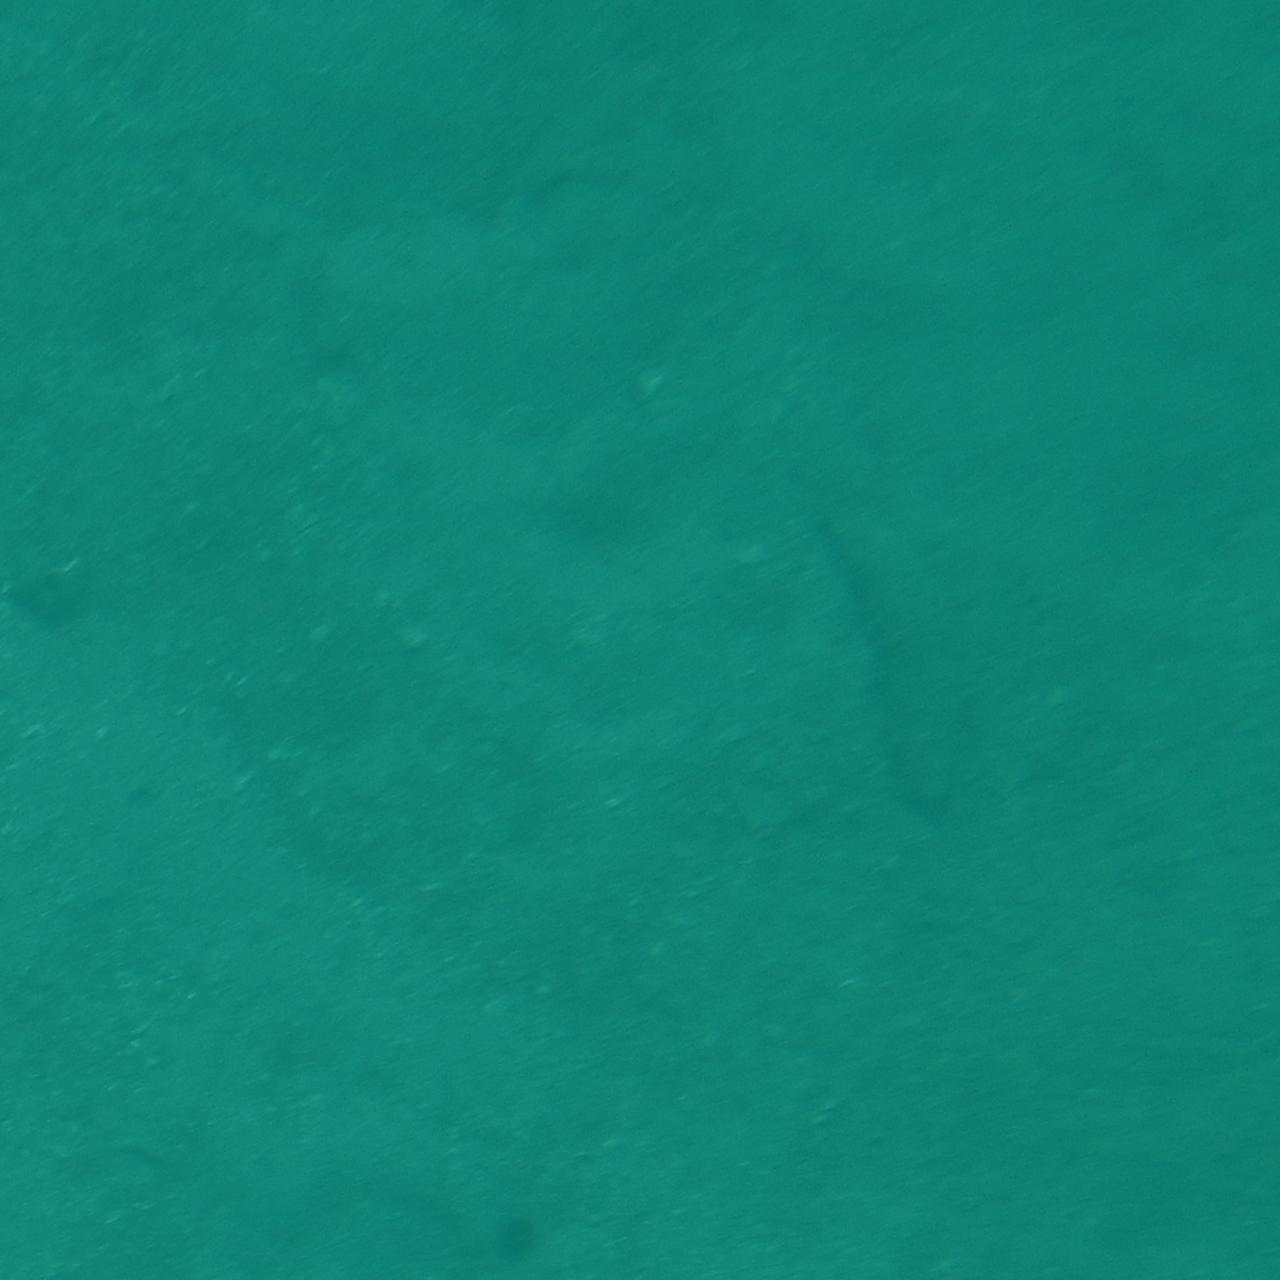Holothuria tubulosa: (798, 480, 938, 800)
